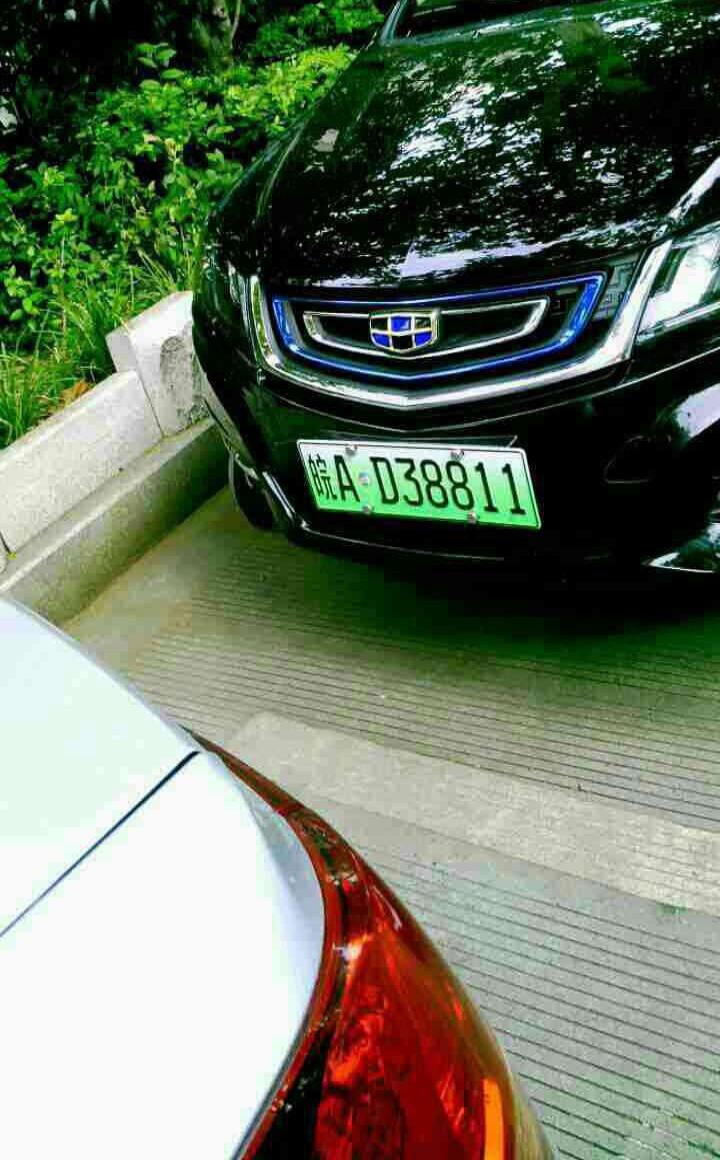car_id: (303, 442, 538, 527)
